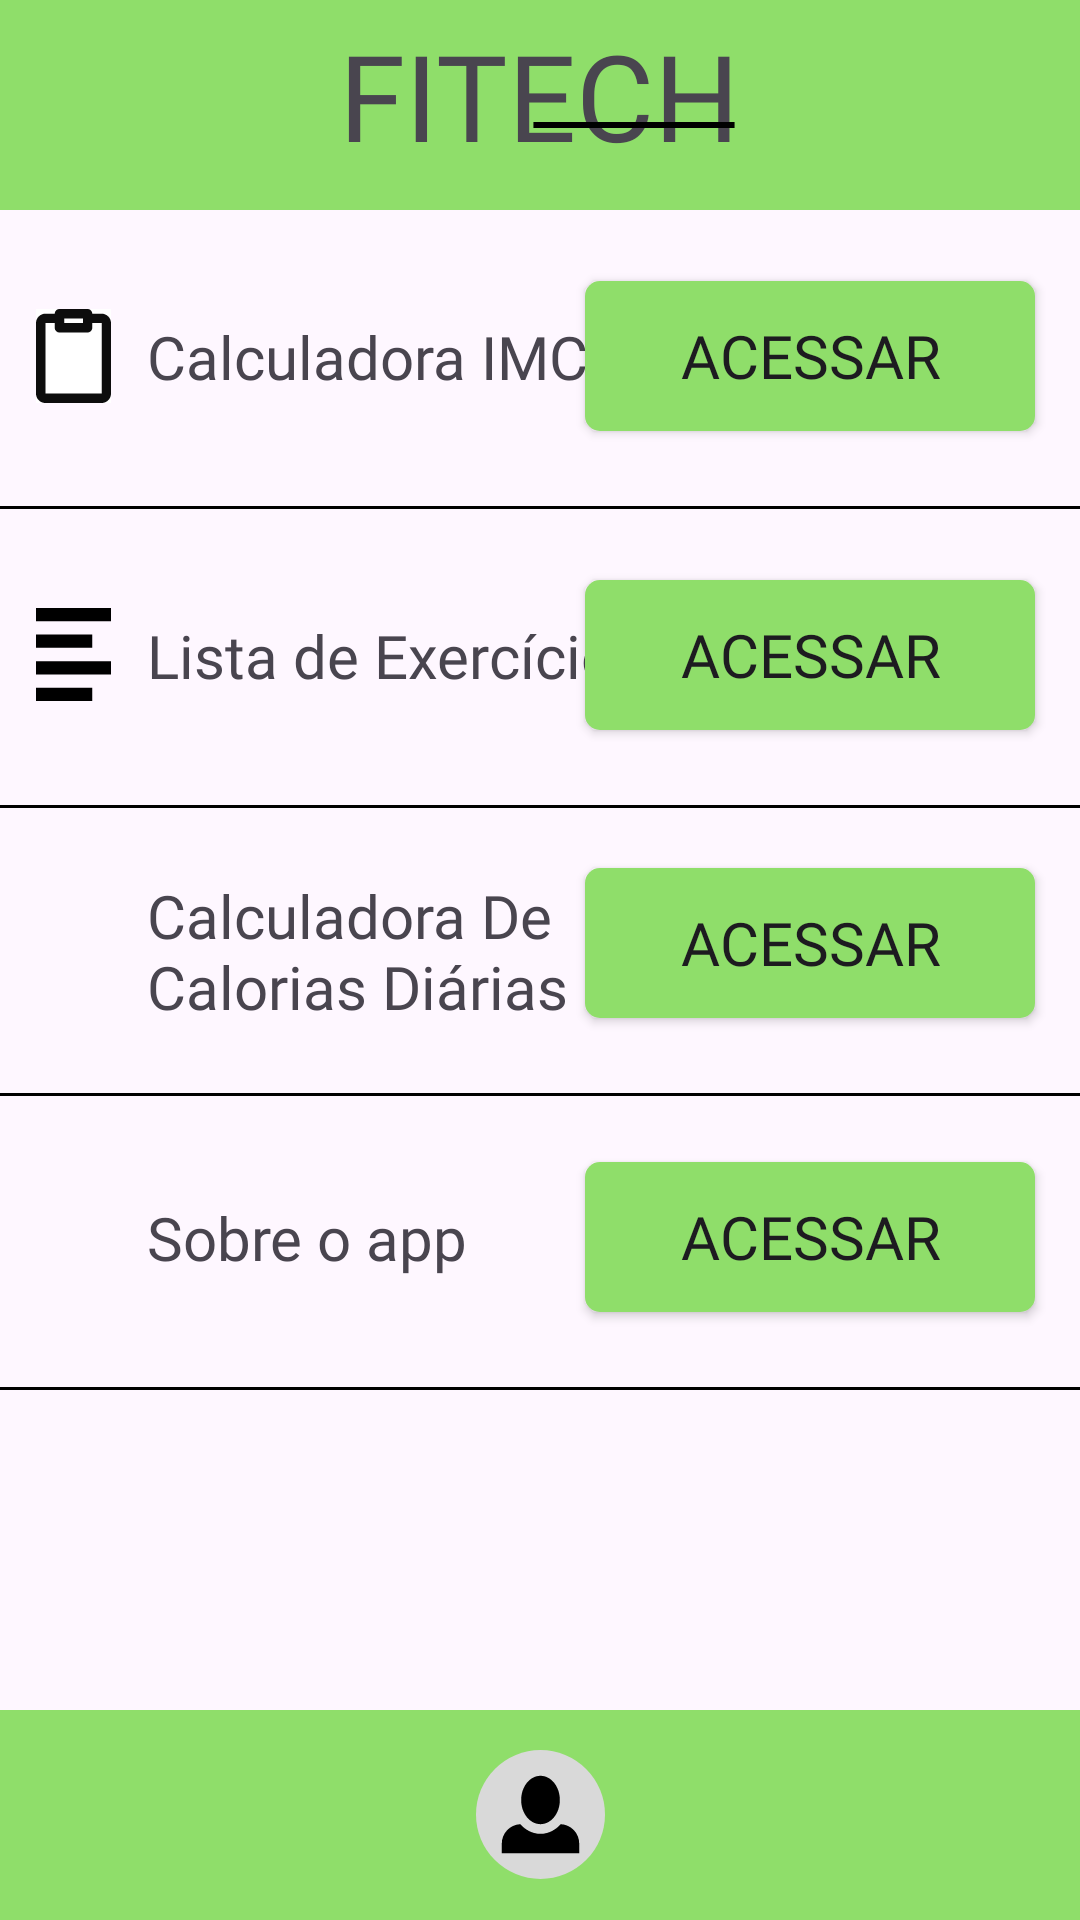

Screen size 1080×1920. Icon name, then its box in pixels as (x1, y1, x2, y2):
listadeexercicios: (36, 608, 111, 701)
meuusuario: (476, 1750, 605, 1879)
